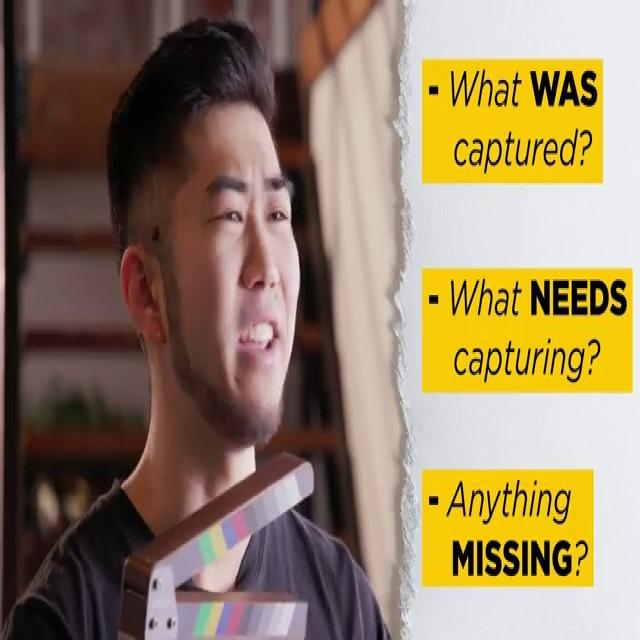Clapperboard: (121, 453, 315, 638)
